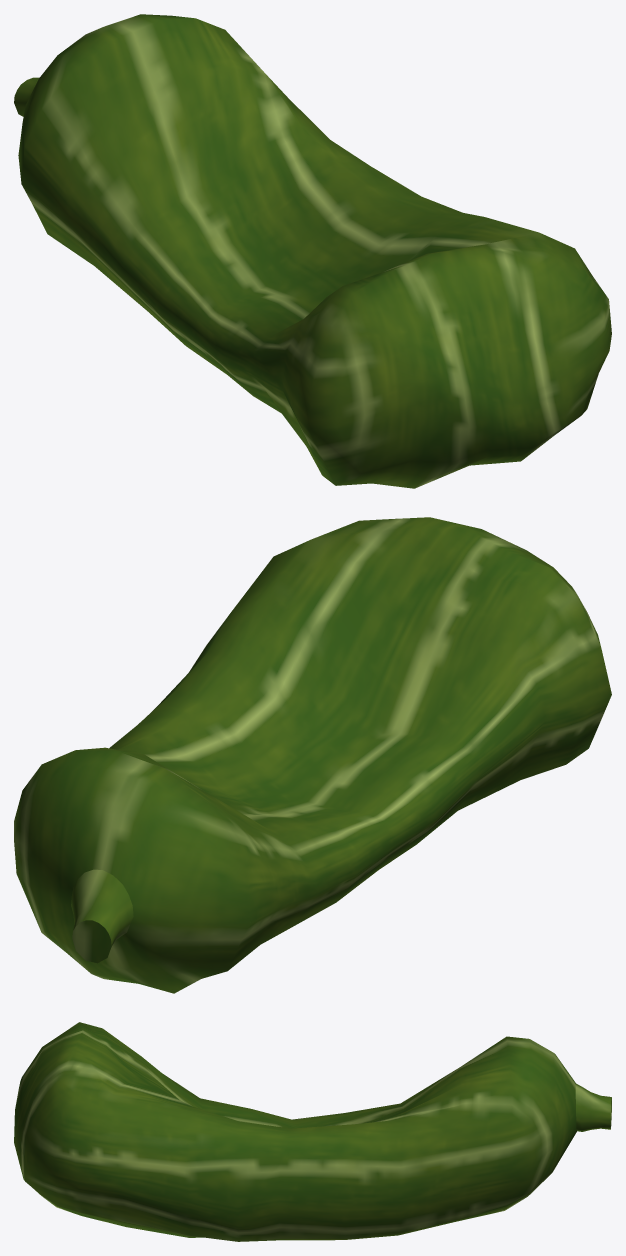
The model's file is SquashedMarrow.fbx.
3 renders of one model, top to bottom at view 1: azimuth 30°, elevation 25°; view 2: azimuth 150°, elevation 25°; view 3: azimuth 270°, elevation 25°, orthographic. The views are drawn at different scales.
Parts seen in each view (by area): view 1: pCylinder1; view 2: pCylinder1; view 3: pCylinder1.
Boxes of the visible parts, left/top/right/bottom form: pCylinder1: left=14, top=14, right=611, bottom=488; pCylinder1: left=14, top=517, right=611, bottom=993; pCylinder1: left=14, top=1022, right=611, bottom=1241.
Bounding box in the file's own units: 1.93 × 1.46 × 4.48.
